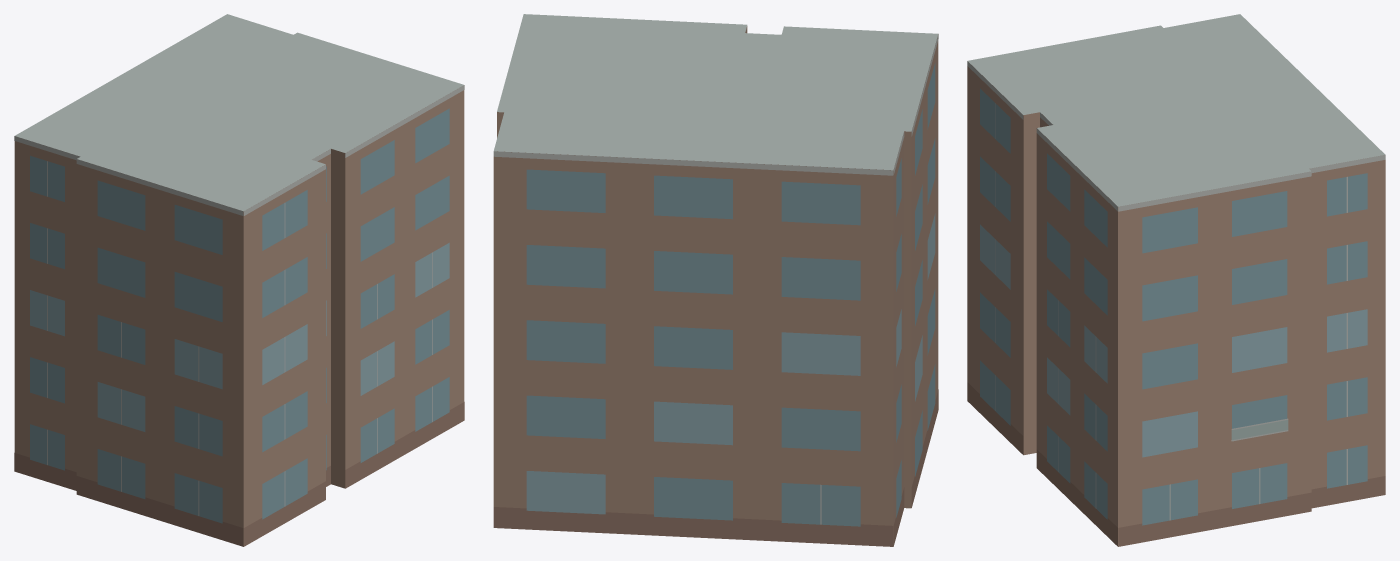
File: survey-upis-32584625.glb
3 views of the same model, side by side, from view 1: azimuth 30°, elevation 25°; view 2: azimuth 150°, elevation 25°; view 3: azimuth 270°, elevation 25° (orthographic). The views are drawn at different scales.
Visible parts, largest first — view 1: survey-upis-32584625.tmp; view 2: survey-upis-32584625.tmp; view 3: survey-upis-32584625.tmp.
Part boxes in pixels (bbox=[...]): survey-upis-32584625.tmp: bbox=[14, 14, 464, 546]; survey-upis-32584625.tmp: bbox=[493, 14, 938, 546]; survey-upis-32584625.tmp: bbox=[967, 14, 1385, 546].
Size of the model in its own units: 20.25 by 16.65 by 18.57.
